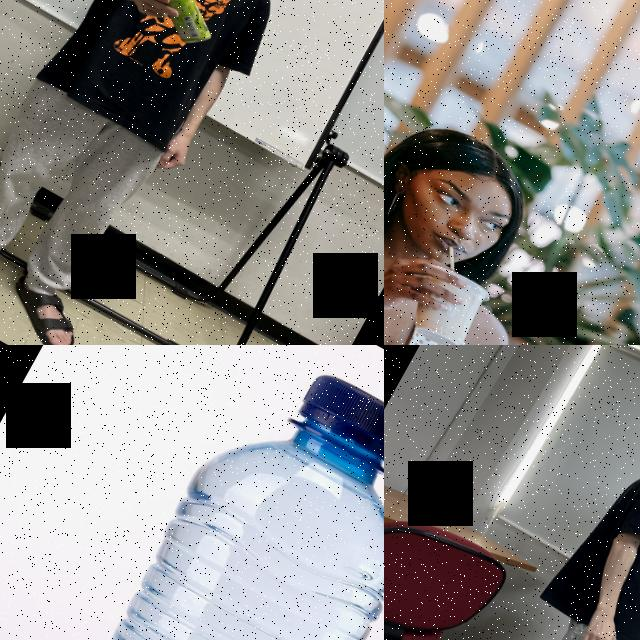bottle: (12, 345, 384, 640), (564, 616, 640, 640)
can: (126, 0, 234, 53)
cup: (393, 256, 494, 345)
